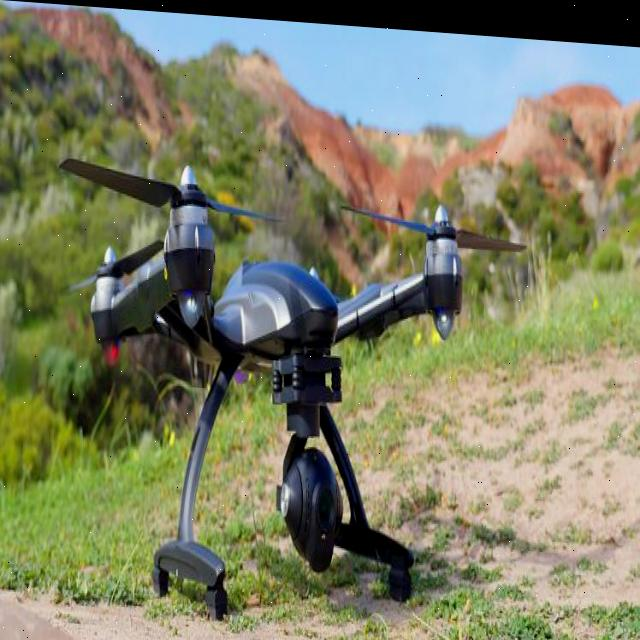drone: (47, 116, 536, 640)
